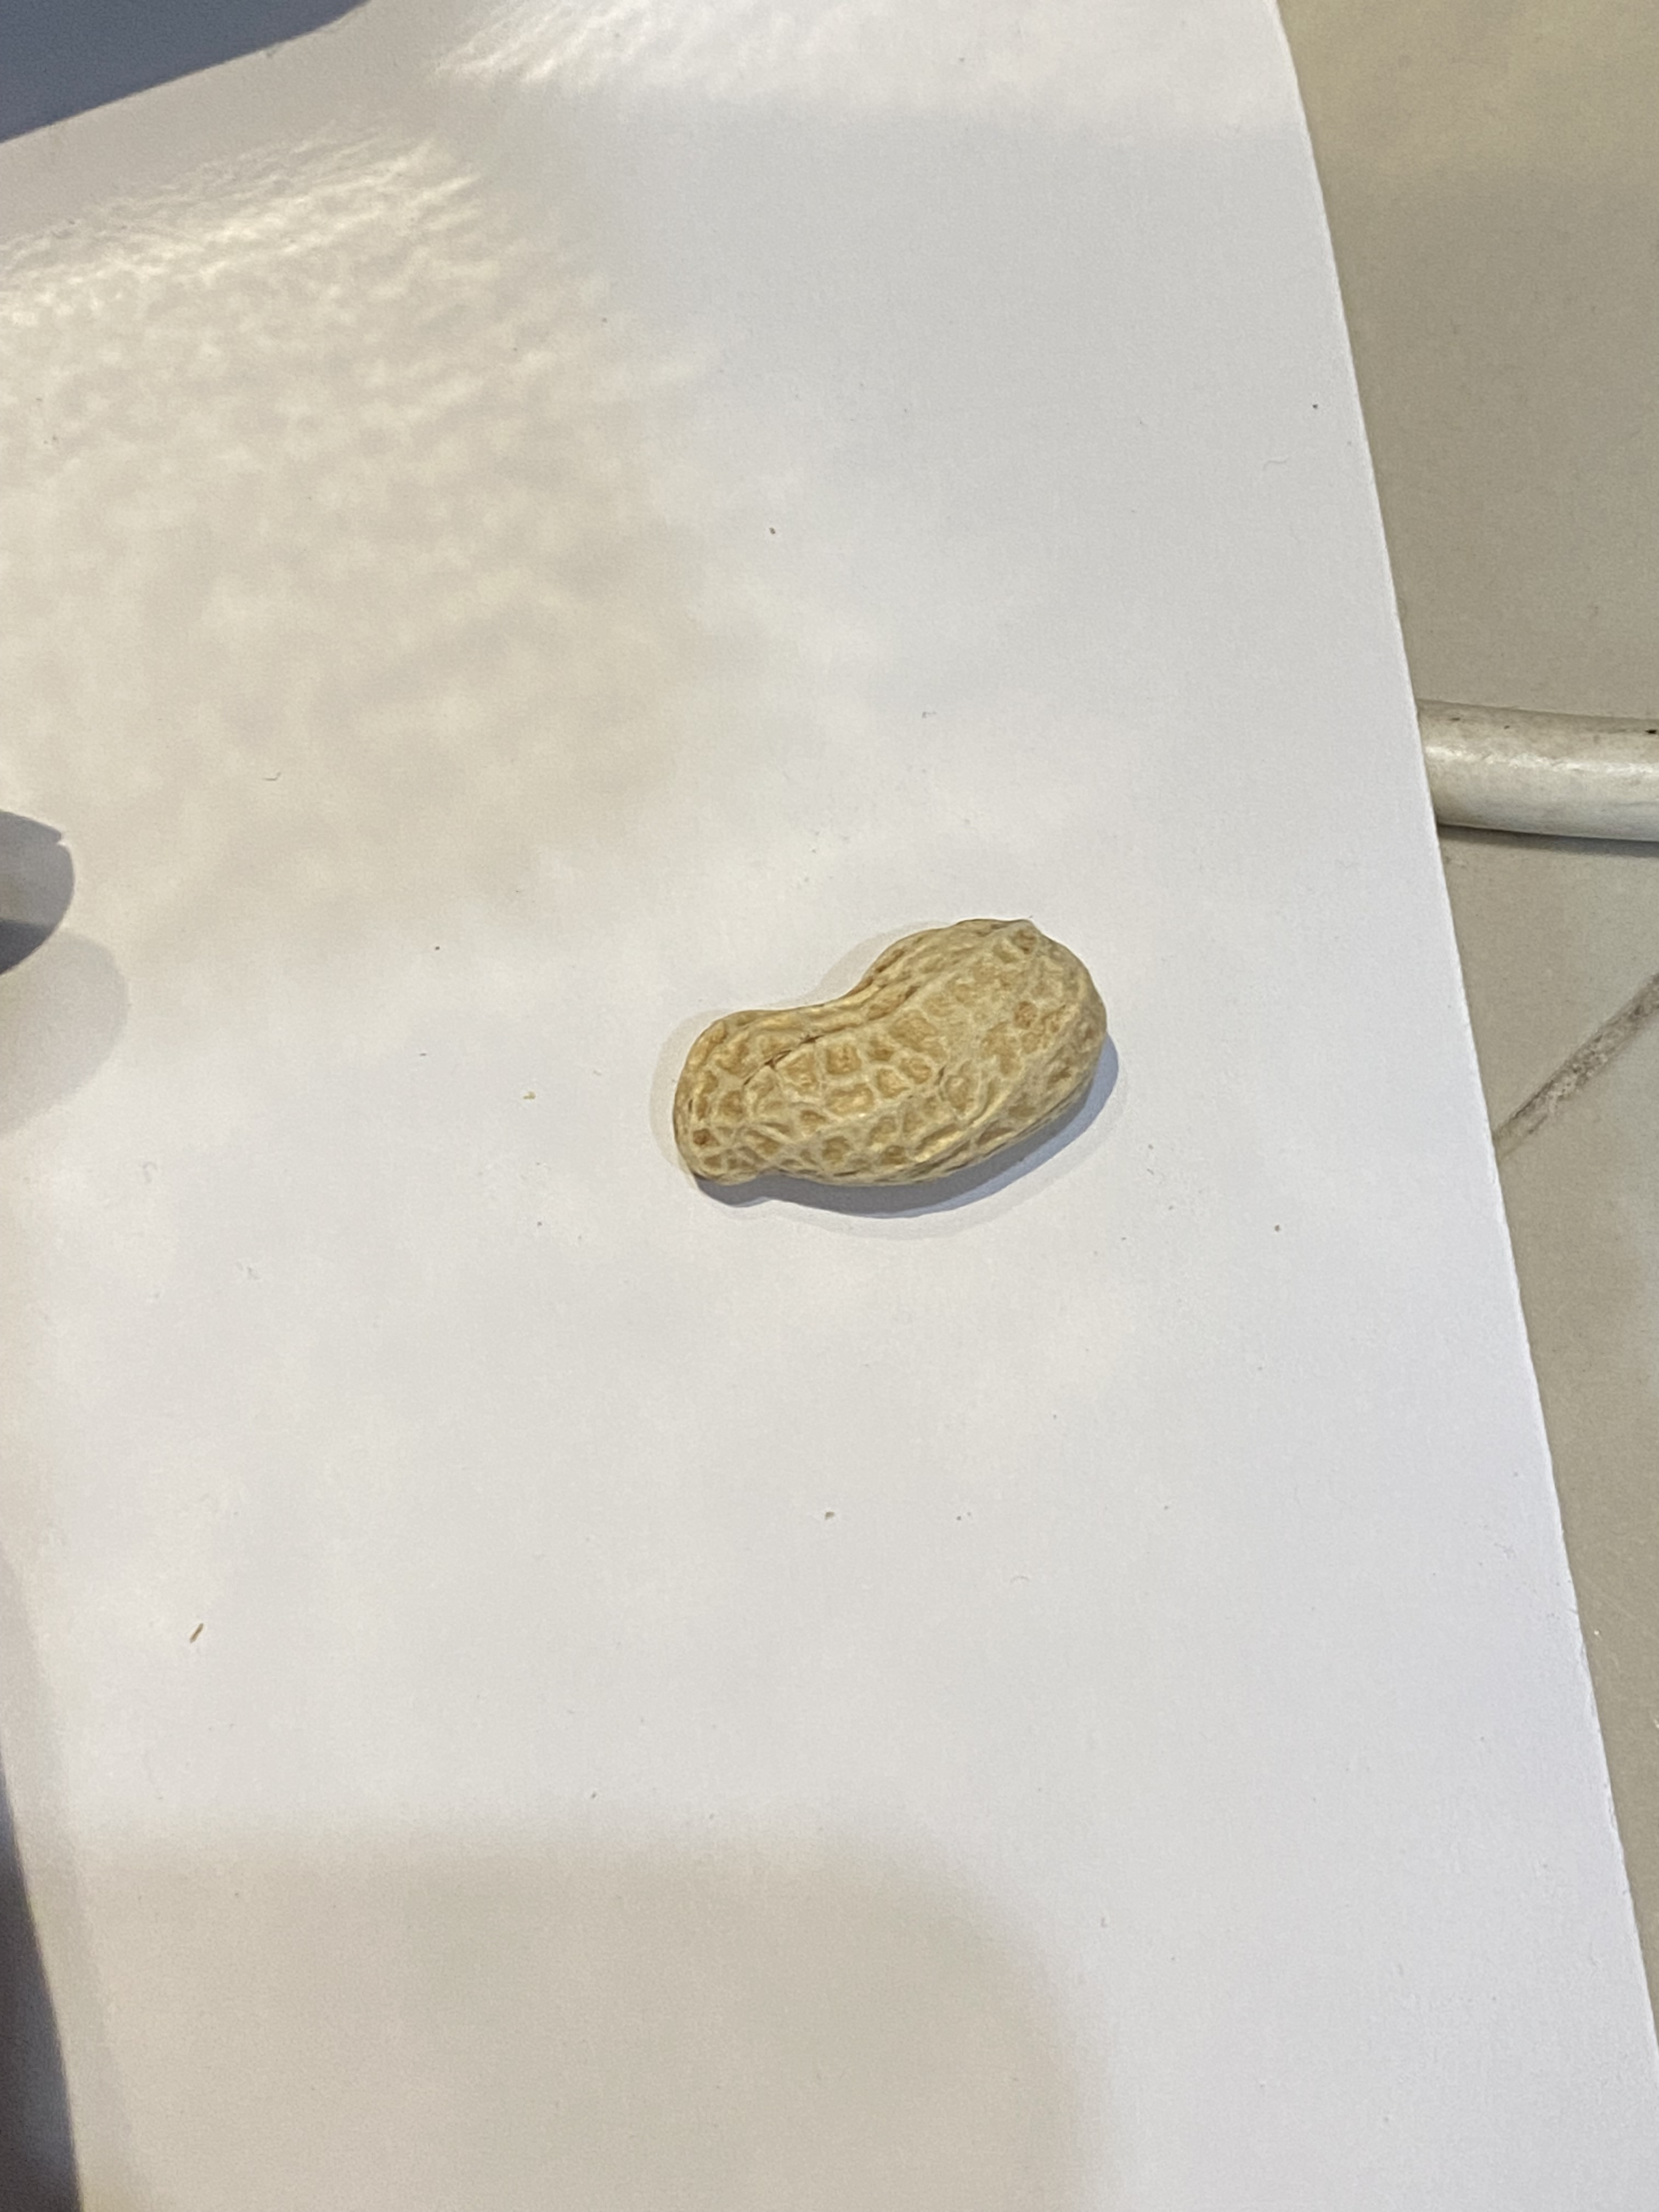kacang2: (662, 887, 1119, 1226)
